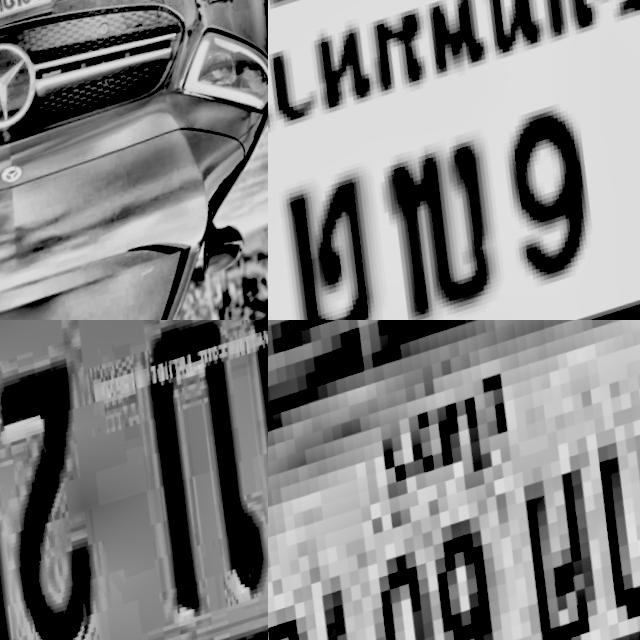license-plate: (268, 0, 640, 320), (268, 320, 640, 640), (0, 320, 268, 640), (0, 0, 66, 53)
